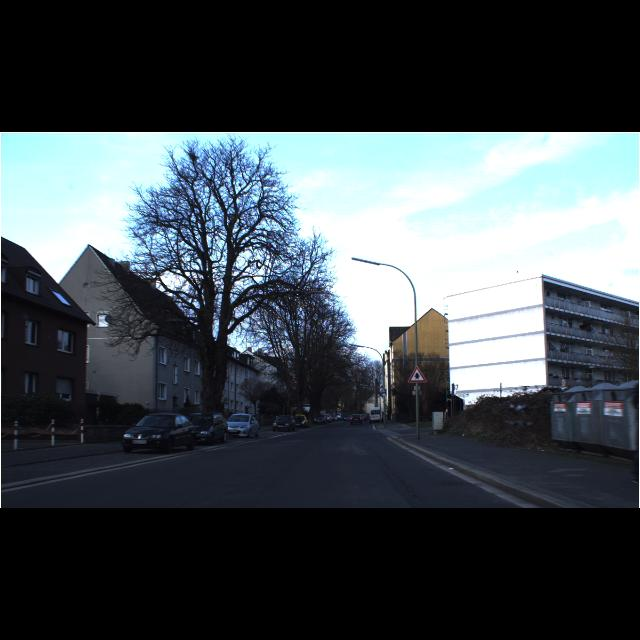danger: (407, 365, 427, 383)
